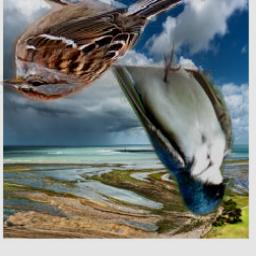Sparrow: (0, 0, 198, 102)
Swallow: (111, 40, 235, 218)
